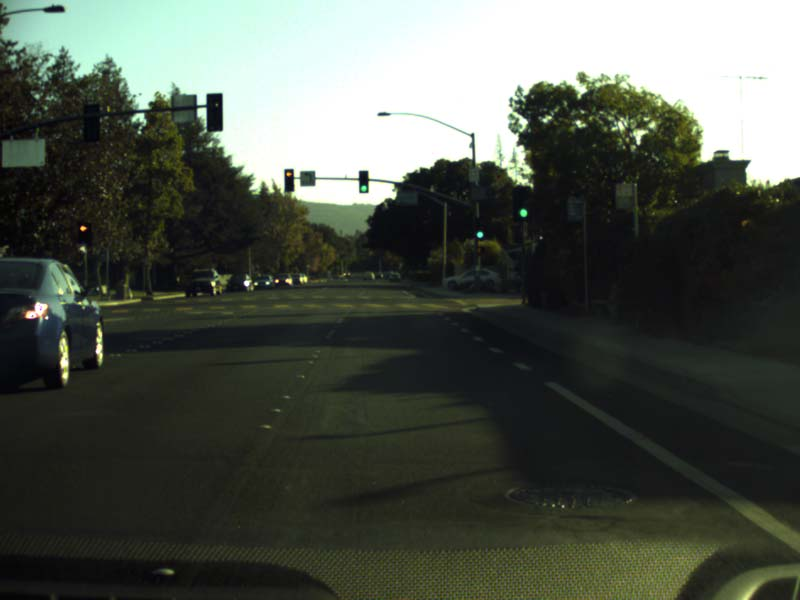Green: (513, 186, 530, 220), (358, 170, 368, 193), (474, 216, 484, 239)
Red: (76, 221, 91, 246), (284, 167, 293, 192)
